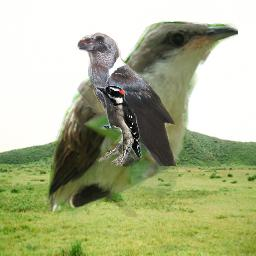Crow: (75, 32, 177, 166)
Cuckoo: (43, 20, 238, 217)
Woodpecker: (95, 85, 142, 158)
